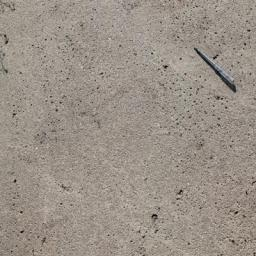FOD: (193, 43, 239, 94)
